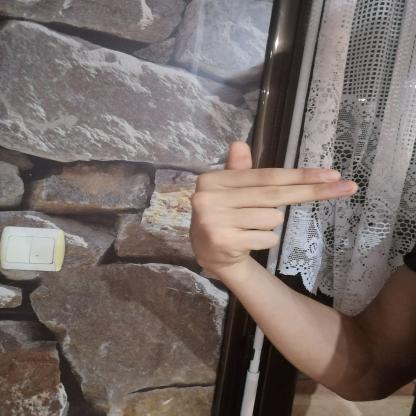GHAYN: (172, 130, 376, 282)
